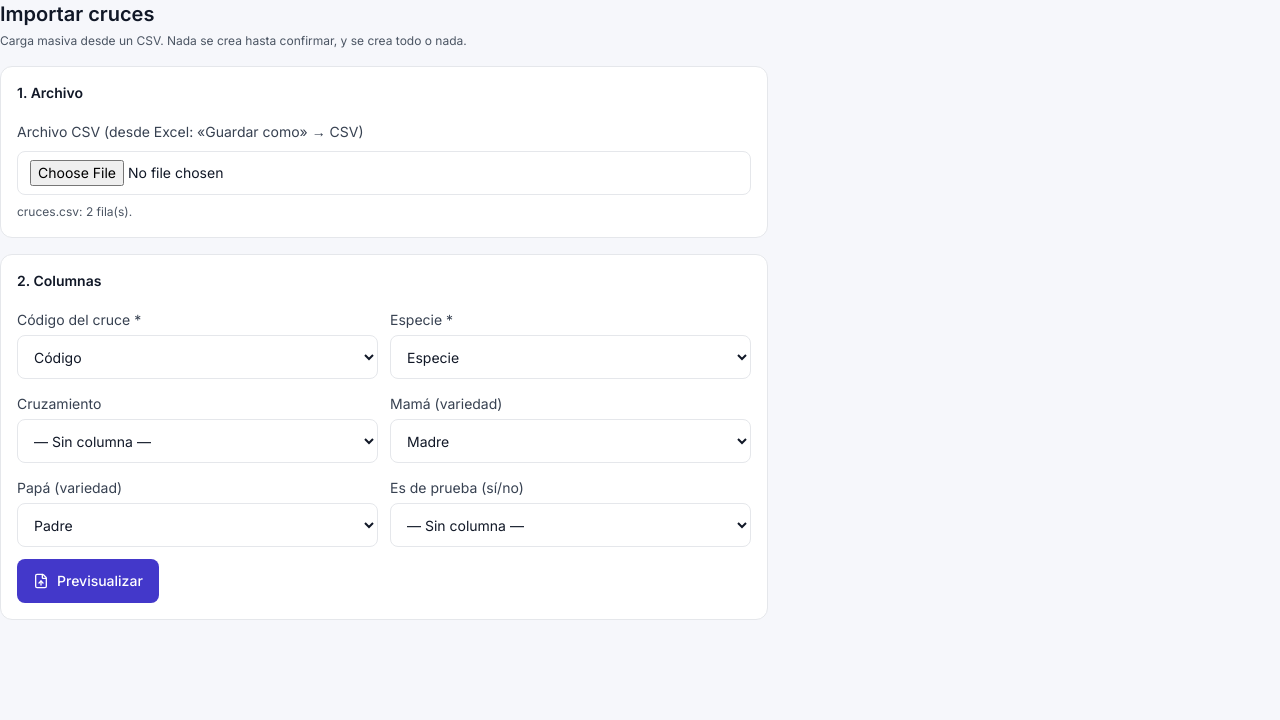
Test: ImportarCrucesPage › descarta la previsualización anterior al reemplazar el archivo y conserva el contexto si falla
Earlier steps of the test are not shown.
Later steps or results of the test are not shown.
Expected: the text "cruces.csv: 2 fila(s)." is shown, left=17, top=204, right=132, bottom=219
What coordinates should you click on to do the following:
click the button "Previsualizar"
I would click on:
 (88, 581)
Its box is left=17, top=559, right=159, bottom=603.
(page scrolled)
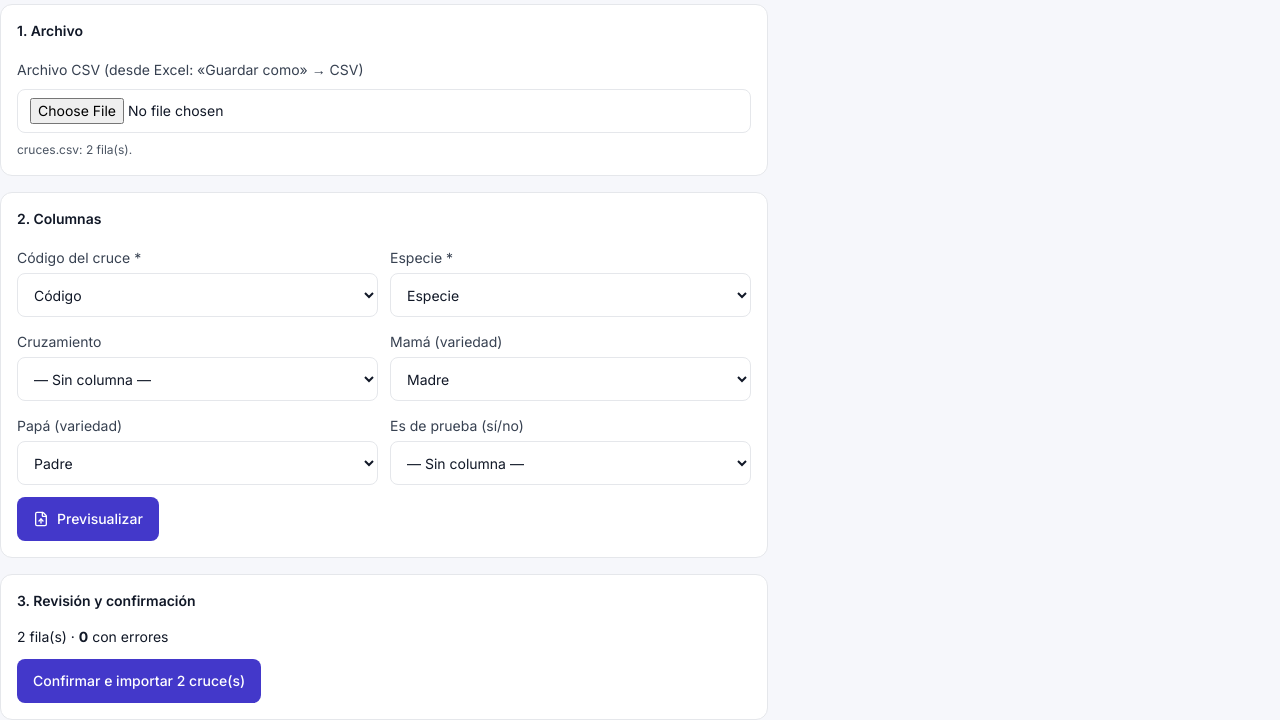
Expected: the button "Confirmar e importar 2 cruce(s)" is shown, left=17, top=659, right=261, bottom=703
